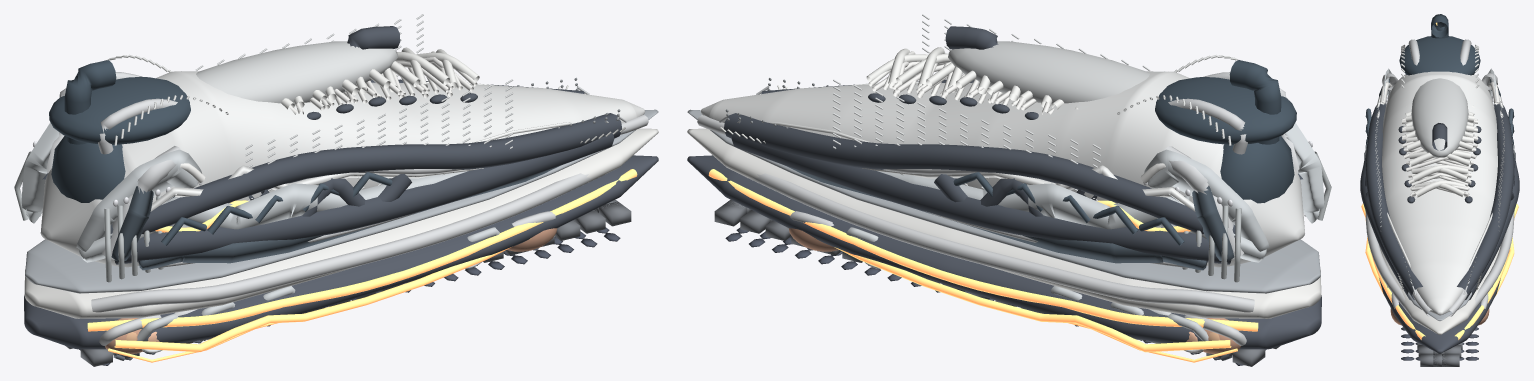
Rendered from aerodyne-v5.glb.
The picture shows the model from 3 angles, left to right: view 1: azimuth 30°, elevation 25°; view 2: azimuth 150°, elevation 25°; view 3: azimuth 270°, elevation 25°; orthographic projection. The views are drawn at different scales.
Parts seen in each view (by area): view 1: Upper_Knit, Cage_Carbon, Cage_Metal, Outsole_Rubber, Liner, V4_SilverWing, Midsole_Foam, Midsole_Silver, Tongue, Accent_Emissive, V4_CarbonBlade, V4_LightChannel (+11 smaller); view 2: Upper_Knit, Cage_Carbon, Cage_Metal, Outsole_Rubber, Liner, V4_SilverWing, Midsole_Foam, Midsole_Silver, Tongue, Accent_Emissive, V4_CarbonBlade, V4_LightChannel (+11 smaller); view 3: Upper_Knit, Cage_Carbon, Tongue, Cage_Metal, Liner, Laces, Outsole_Rubber, Midsole_Foam, V4_Laces, Tread, Accent_Emissive, V4_LightChannel (+9 smaller).
Part boxes in pixels (x1=…): Upper_Knit: x1=40, y1=71, x2=645, y2=267; Cage_Carbon: x1=42, y1=26, x2=621, y2=264; Cage_Metal: x1=46, y1=72, x2=648, y2=346; Outsole_Rubber: x1=24, y1=155, x2=658, y2=349; Liner: x1=49, y1=60, x2=190, y2=202; V4_SilverWing: x1=21, y1=122, x2=526, y2=340; Midsole_Foam: x1=24, y1=128, x2=658, y2=318; Midsole_Silver: x1=25, y1=109, x2=658, y2=293; Tongue: x1=196, y1=41, x2=397, y2=103; Accent_Emissive: x1=87, y1=169, x2=637, y2=331; V4_CarbonBlade: x1=111, y1=166, x2=558, y2=270; V4_LightChannel: x1=114, y1=247, x2=510, y2=352; Upper_Knit: x1=701, y1=71, x2=1304, y2=267; Cage_Carbon: x1=724, y1=26, x2=1302, y2=264; Cage_Metal: x1=697, y1=72, x2=1299, y2=345; Outsole_Rubber: x1=687, y1=155, x2=1321, y2=349; Liner: x1=1155, y1=60, x2=1296, y2=203; V4_SilverWing: x1=817, y1=122, x2=1324, y2=341; Midsole_Foam: x1=687, y1=128, x2=1321, y2=318; Midsole_Silver: x1=687, y1=109, x2=1320, y2=293; Tongue: x1=948, y1=41, x2=1149, y2=103; Accent_Emissive: x1=708, y1=169, x2=1258, y2=331; V4_CarbonBlade: x1=787, y1=166, x2=1234, y2=270; V4_LightChannel: x1=834, y1=247, x2=1231, y2=352; Upper_Knit: x1=1382, y1=71, x2=1497, y2=315; Cage_Carbon: x1=1360, y1=102, x2=1519, y2=300; Tongue: x1=1411, y1=78, x2=1468, y2=157; Cage_Metal: x1=1365, y1=39, x2=1514, y2=316; Liner: x1=1399, y1=14, x2=1480, y2=75; Laces: x1=1405, y1=105, x2=1474, y2=197; Outsole_Rubber: x1=1379, y1=278, x2=1500, y2=353; Midsole_Foam: x1=1379, y1=246, x2=1500, y2=334; V4_Laces: x1=1402, y1=118, x2=1478, y2=196; Tread: x1=1417, y1=342, x2=1462, y2=366; Accent_Emissive: x1=1371, y1=22, x2=1508, y2=339; V4_LightChannel: x1=1361, y1=203, x2=1518, y2=295.
Size of the model in its own units: 4.6 by 1.94 by 1.53.
